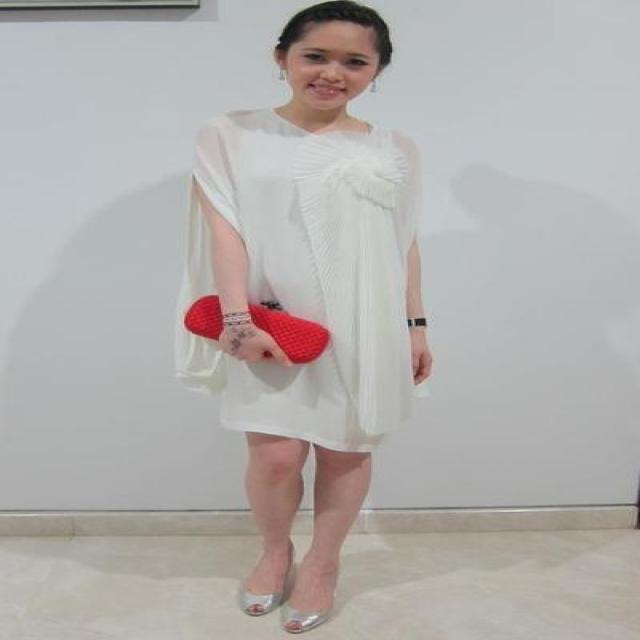bag: (184, 296, 325, 362)
dress: (158, 102, 434, 462)
shoe: (226, 586, 324, 636)
